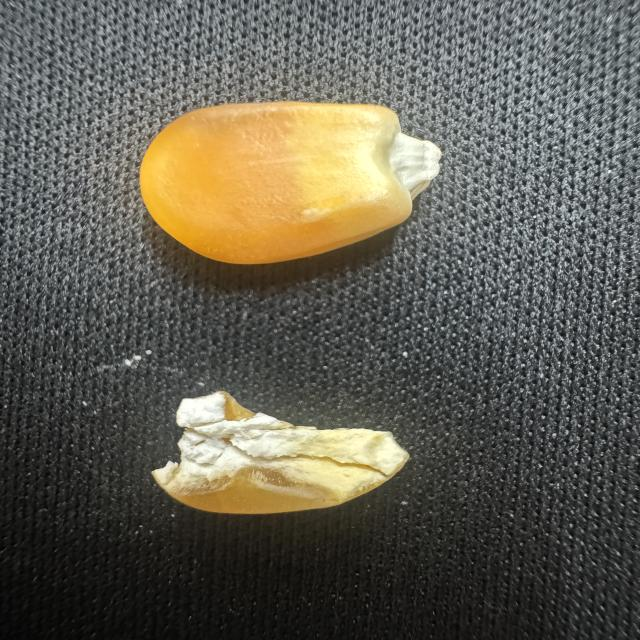Bad-Seed: (153, 376, 421, 524)
Good-Seed: (132, 90, 466, 274)
